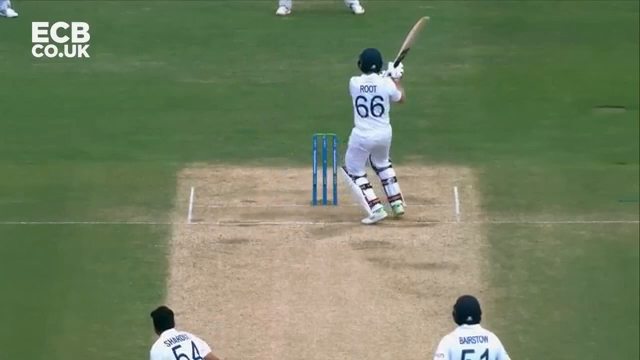batsman: (336, 47, 410, 228)
